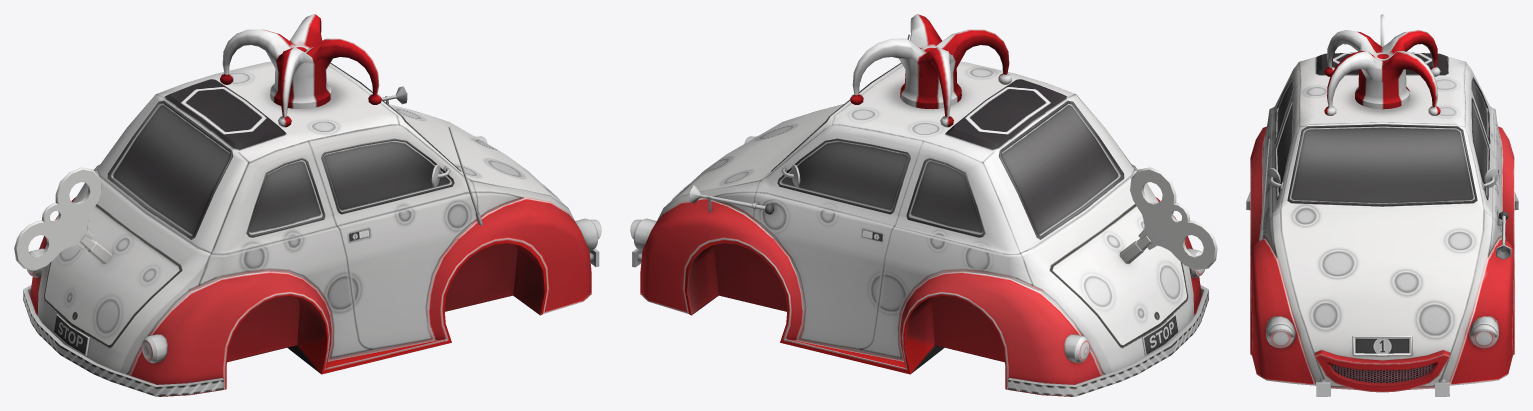
The model's file is f1_car_clown_07.dae.
3 renders of one model, left to right at view 1: azimuth 30°, elevation 25°; view 2: azimuth 150°, elevation 25°; view 3: azimuth 270°, elevation 25°, orthographic. The views are drawn at different scales.
Parts seen in each view (by area): view 1: car_body; view 2: car_body; view 3: car_body.
Boxes of the visible parts, bbox=[...] form: car_body: bbox=[14, 14, 601, 396]; car_body: bbox=[630, 14, 1217, 396]; car_body: bbox=[1246, 14, 1518, 396].
Bounding box in the file's own units: 0.4024 × 0.1936 × 0.1918.
1 material, 1 textured.
